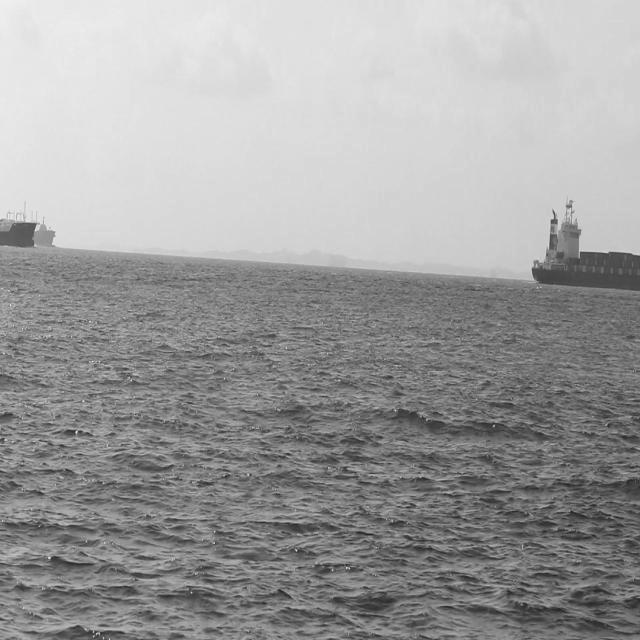ship: (529, 197, 639, 289), (1, 208, 37, 250), (33, 211, 55, 245)
